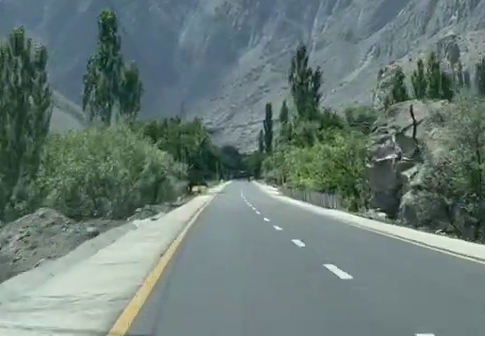left: (208, 181, 356, 315)
